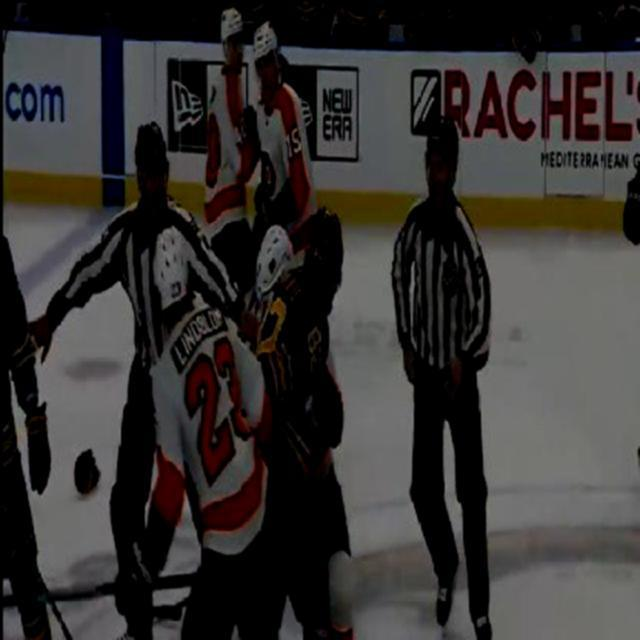fight: (245, 212, 353, 640)
